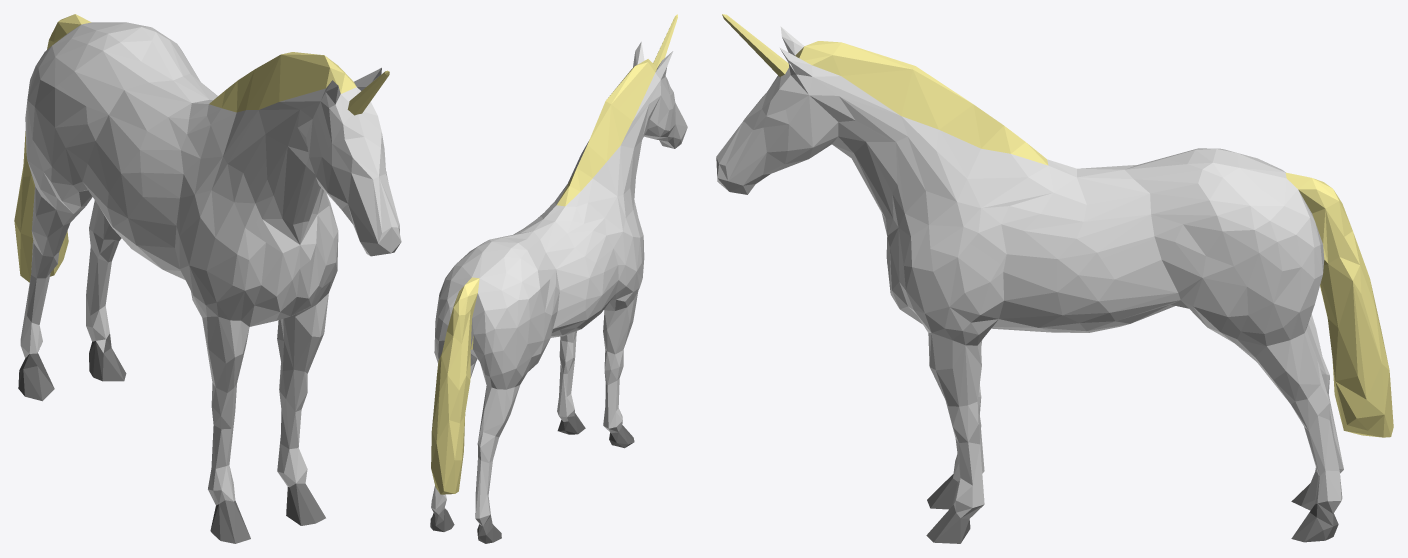
Rendered from animal_003.fbx.
3 views of the same model, side by side, from view 1: azimuth 30°, elevation 25°; view 2: azimuth 150°, elevation 25°; view 3: azimuth 270°, elevation 25° (orthographic). The views are drawn at different scales.
Visible parts, largest first — view 1: animal.003; view 2: animal.003; view 3: animal.003.
Boxes of the visible parts, <box> form: animal.003: <box>14,14,401,543</box>; animal.003: <box>430,14,687,543</box>; animal.003: <box>716,14,1393,543</box>.
Bounding box in the file's own units: 133 × 467 × 565.
Materials: 1 (1 with a texture image).
